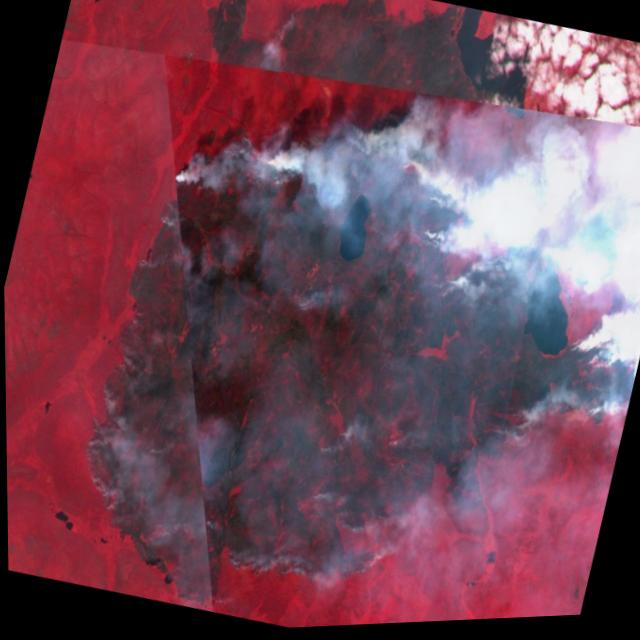fire: (41, 37, 640, 639)
